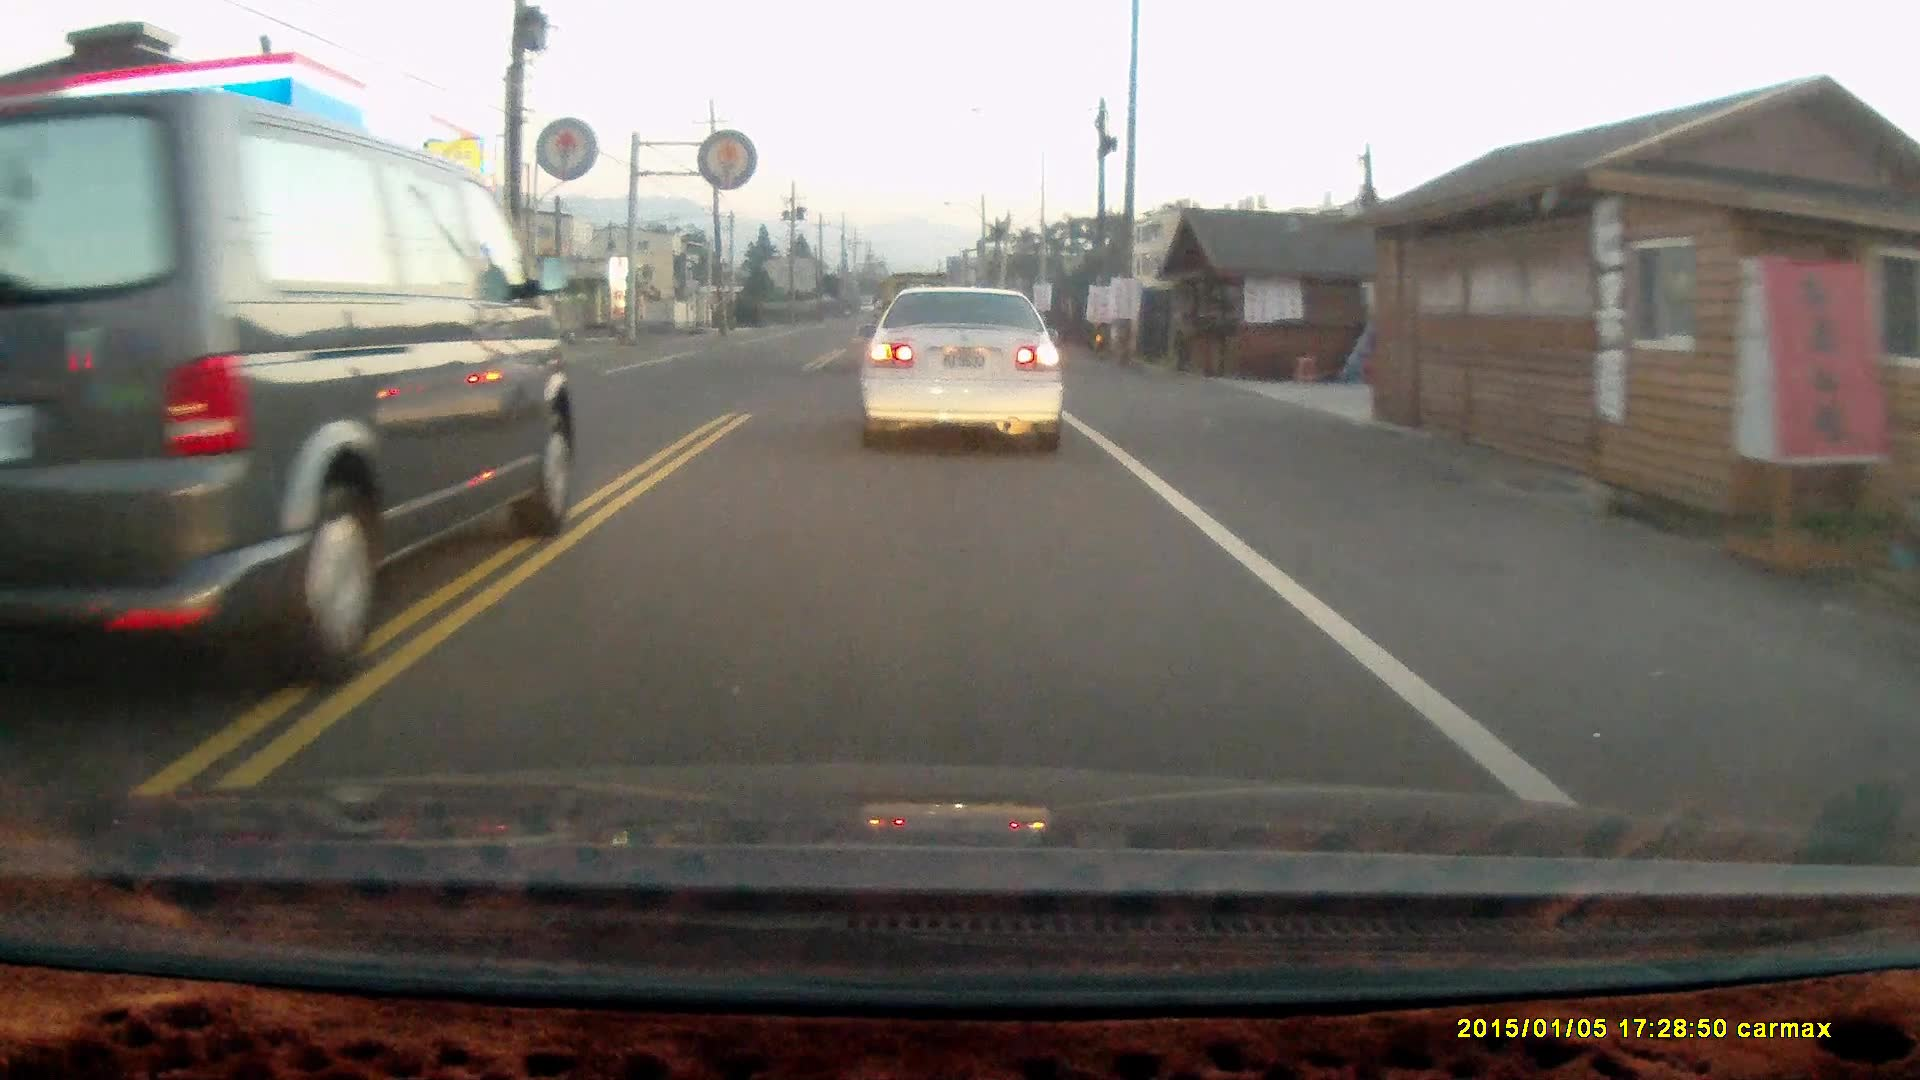vehicle: (1, 94, 580, 679), (861, 280, 1069, 456)
